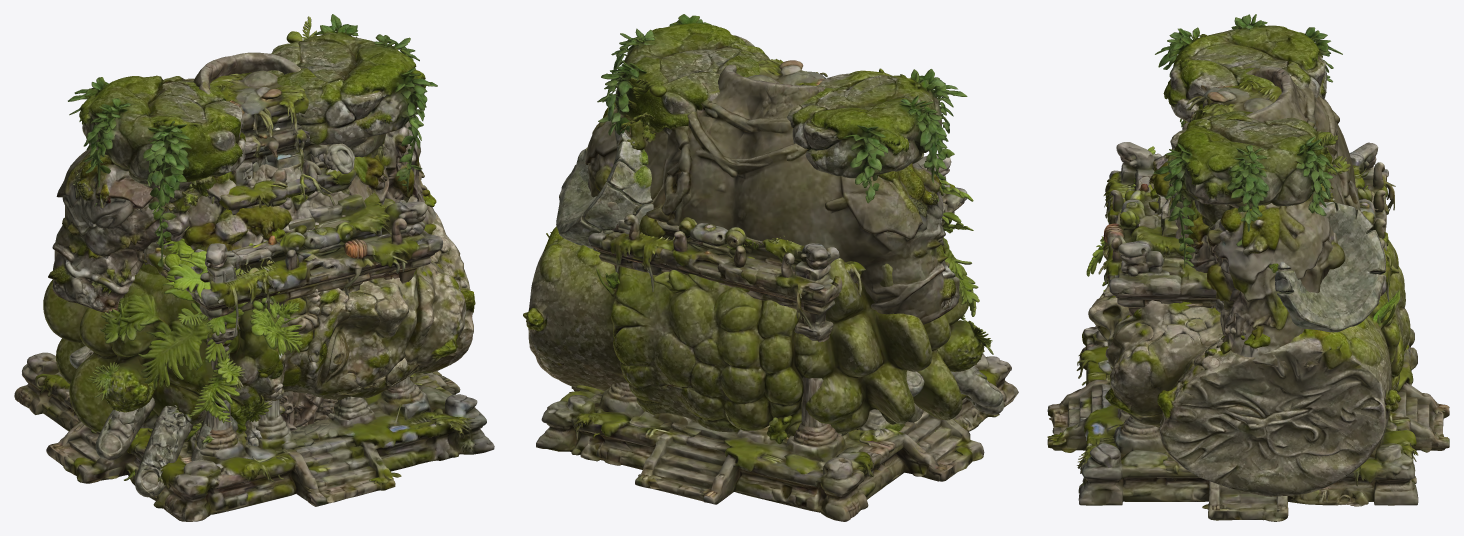
The model's file is ruins.glb.
3 views of the same model, side by side, from view 1: azimuth 30°, elevation 25°; view 2: azimuth 150°, elevation 25°; view 3: azimuth 270°, elevation 25° (orthographic). The views are drawn at different scales.
Visible parts, largest first — view 1: cliff_temple, colossus_head, colossus_legs, colossus_torso, colossus_arm; view 2: colossus_head, cliff_temple, colossus_torso, colossus_legs, colossus_arm; view 3: colossus_head, cliff_temple, colossus_legs, colossus_torso, colossus_arm.
Part boxes in pixels (x1=…): cliff_temple: x1=14, y1=70, x2=494, y2=521; colossus_head: x1=43, y1=189, x2=475, y2=442; colossus_legs: x1=68, y1=14, x2=437, y2=428; colossus_torso: x1=48, y1=16, x2=436, y2=480; colossus_arm: x1=69, y1=346, x2=262, y2=497; colossus_head: x1=523, y1=179, x2=993, y2=444; cliff_temple: x1=536, y1=59, x2=1018, y2=521; colossus_torso: x1=585, y1=64, x2=959, y2=457; colossus_legs: x1=597, y1=14, x2=967, y2=430; colossus_arm: x1=556, y1=130, x2=1004, y2=414; colossus_head: x1=1086, y1=146, x2=1410, y2=496; cliff_temple: x1=1047, y1=80, x2=1449, y2=521; colossus_legs: x1=1153, y1=14, x2=1364, y2=506; colossus_torso: x1=1148, y1=66, x2=1360, y2=369; colossus_arm: x1=1269, y1=198, x2=1385, y2=332.
Bounding box in the file's own units: 0.9844 × 0.8877 × 0.9255.
5 materials, 5 textured.
